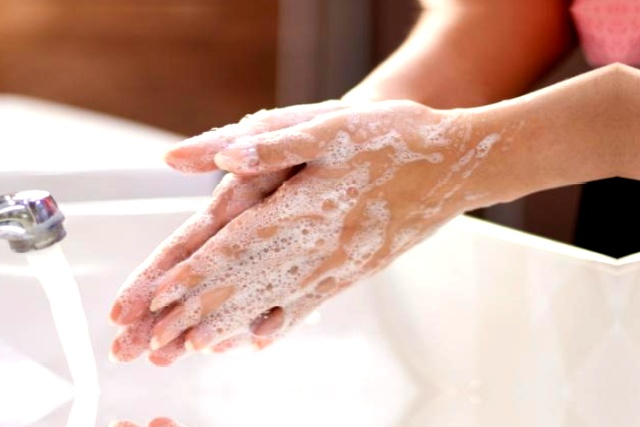washing hand: (0, 63, 479, 387)
